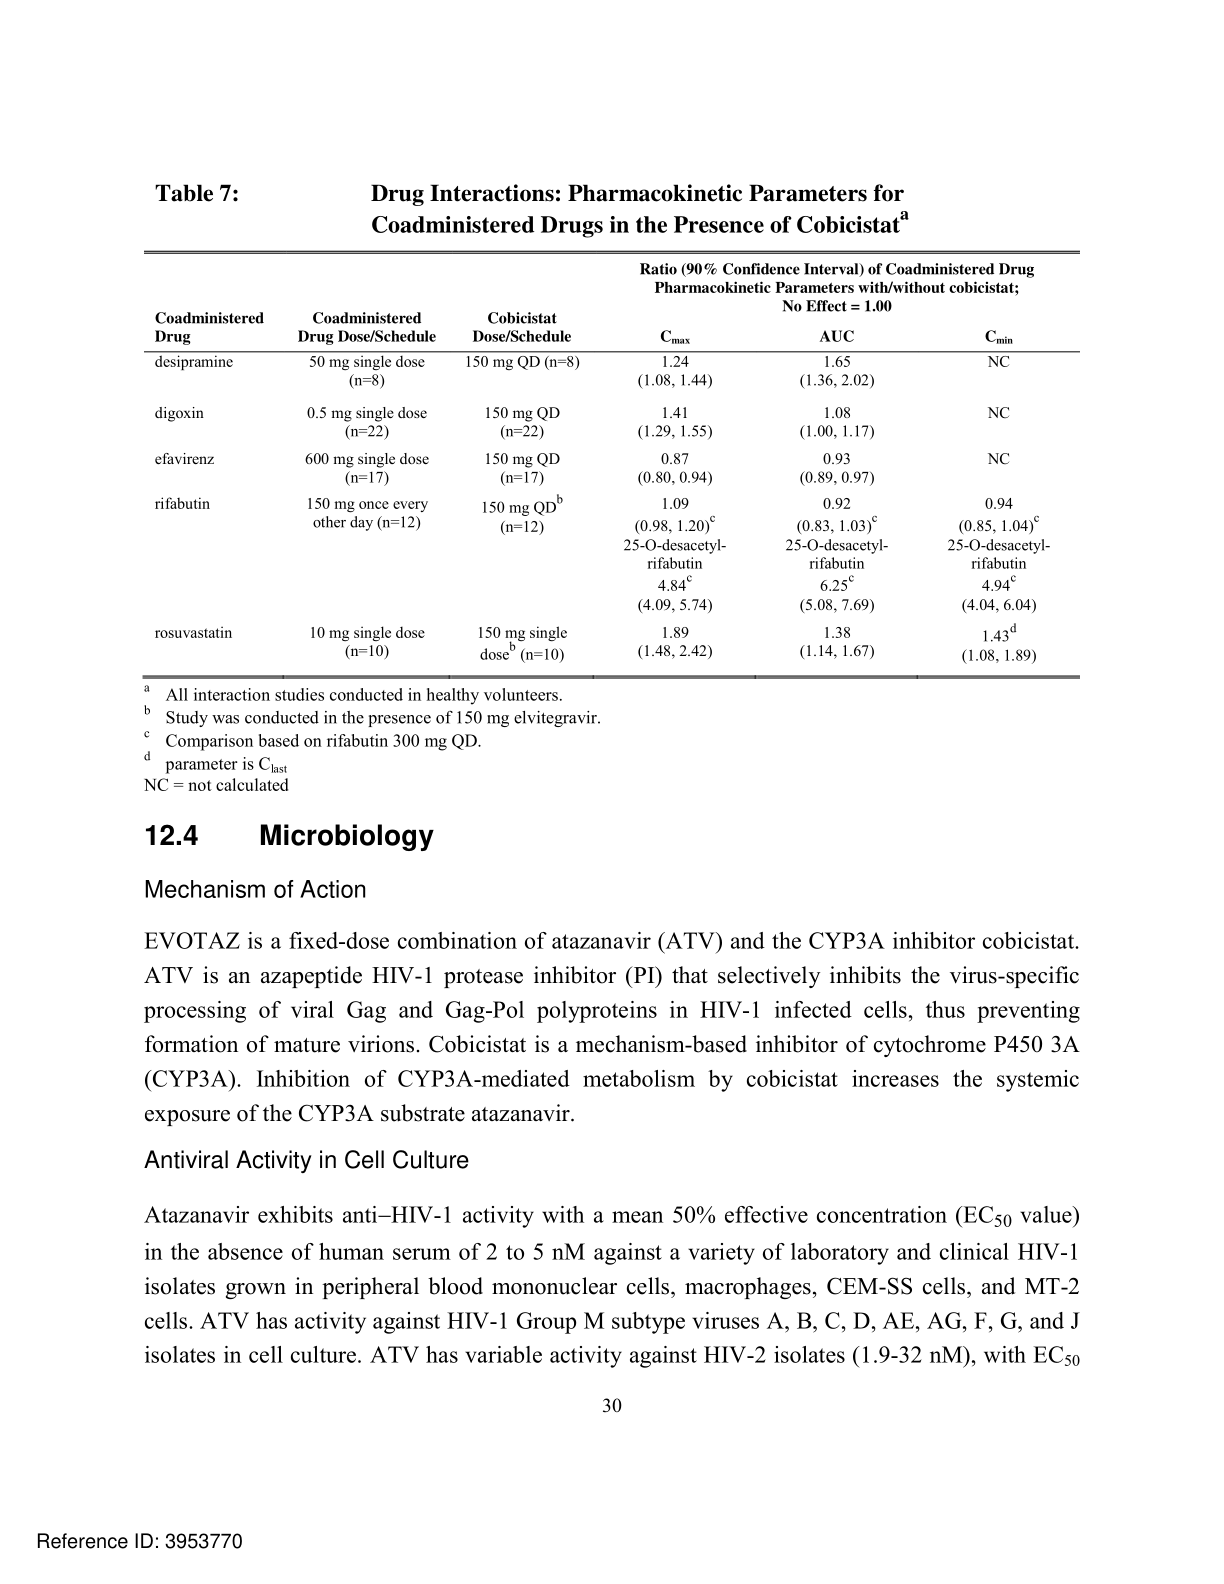partial_lined_merged_cells: (136, 240, 1094, 683)
